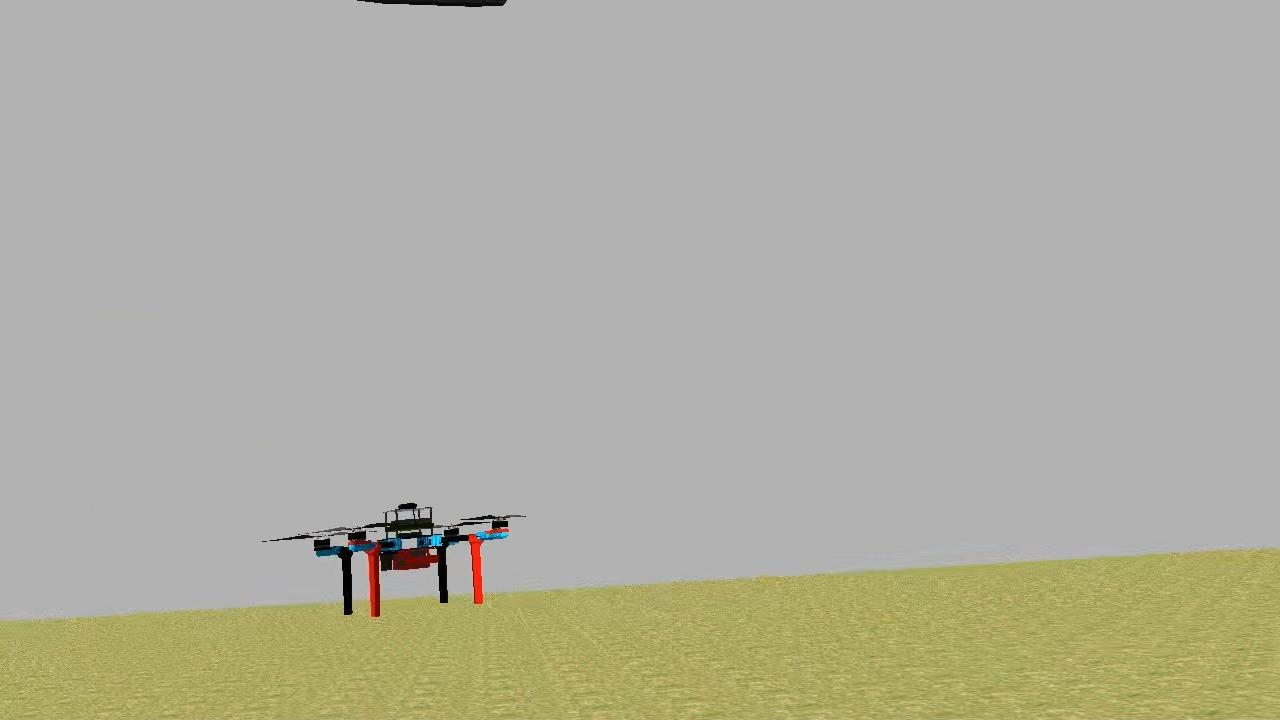UAV: (306, 496, 514, 616)
